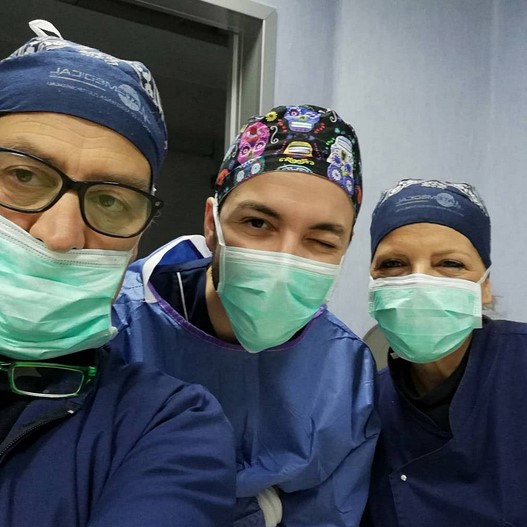face_with_mask: (0, 33, 171, 369), (203, 106, 363, 359), (368, 177, 496, 367)
